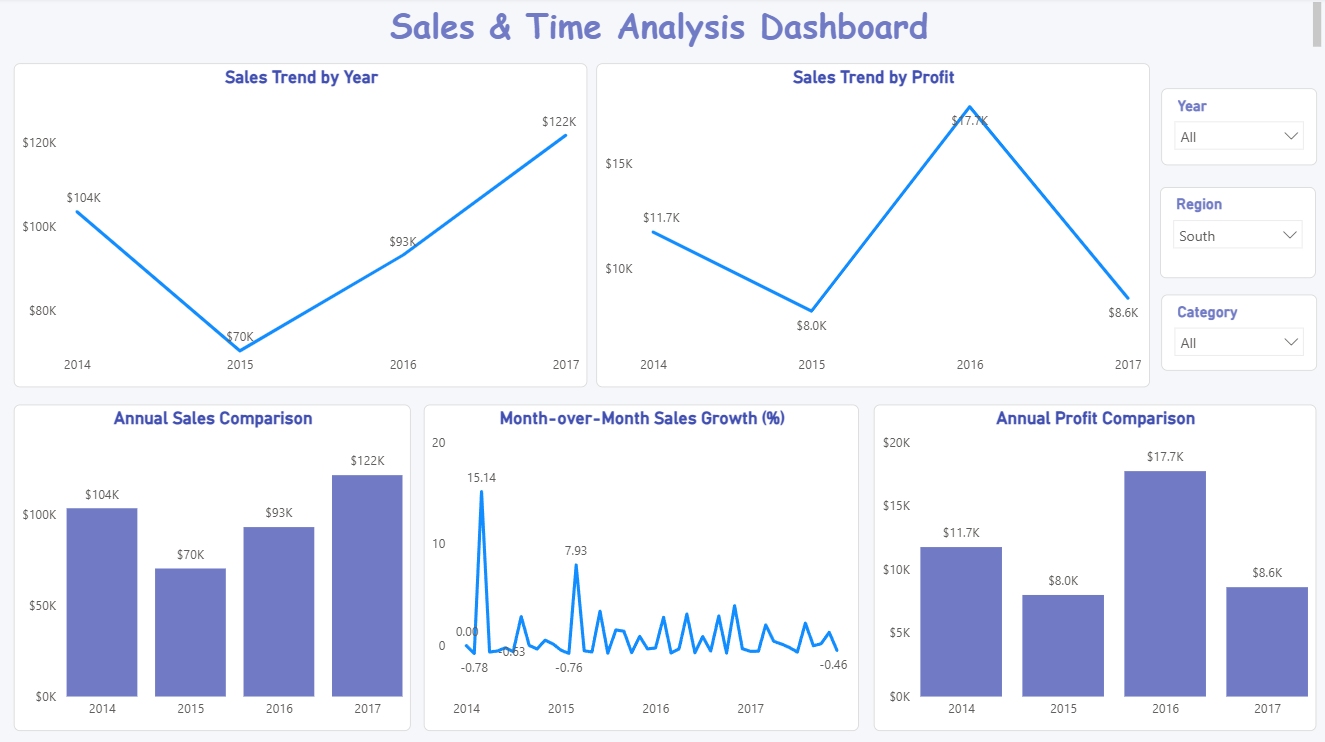

The page's visual inventory and layout, read from the dashboard file:
{"tool":"powerbi","page":{"name":"Sales & Time Analysis","canvas":[1280,720],"ordinal":1},"visuals":[{"type":"slicer","fields":{"Values":["Date Table.Year"]},"box":[1121,88.2,150.7,74.7],"z":0},{"type":"slicer","fields":{"Values":["order_clean.Category"]},"box":[1121,286.7,150.7,73.5],"z":1000},{"type":"slicer","fields":{"Values":["order_clean.Region"]},"box":[1119.8,183.8,150.7,88.2],"z":2000},{"type":"lineChart","title":"Sales Trend by Year","fields":{"Y":["Measures (2).Total Sales"],"Category":["Date Table.Year"]},"box":[13.5,63.7,553.8,312.4],"z":3000},{"type":"lineChart","title":"Sales Trend by Profit","fields":{"Category":["Date Table.Year"],"Y":["Measures (2).Total Profit"]},"box":[575.8,63.7,534.2,312.4],"z":4000},{"type":"textbox","box":[0,0,1280.2,53.9],"z":5000},{"type":"clusteredColumnChart","title":"Annual Sales Comparison","fields":{"Y":["Measures (2).Total Sales"],"Category":["Date Table.Year"]},"box":[13.5,393.3,383.5,314.9],"z":6000},{"type":"clusteredColumnChart","title":"Annual Profit Comparison","fields":{"Category":["Date Table.Year"],"Y":["Measures (2).Total Profit"]},"box":[843.3,393.3,427.1,314.9],"z":7000},{"type":"lineChart","title":"Month-over-Month Sales Growth (%)","fields":{"Y":["Measures (2).MoM Sales Growth %"],"Category":["Date Table.Date.Variation.Date Hierarchy.Year","Date Table.Date.Variation.Date Hierarchy.Month"]},"box":[409,393.3,419.8,314.9],"z":8000}]}

Visuals, with their boxes in screenshot pixels (x1, y1, x2, y2), scaled from the page's 1280x720 canvas onto the 1325x742 screenshot:
slicer - Date Table.Year: bbox(1160, 91, 1316, 168)
slicer - order_clean.Category: bbox(1160, 295, 1316, 371)
slicer - order_clean.Region: bbox(1159, 189, 1315, 280)
"Sales Trend by Year" lineChart: bbox(14, 66, 587, 388)
"Sales Trend by Profit" lineChart: bbox(596, 66, 1149, 388)
textbox: bbox(0, 0, 1324, 56)
"Annual Sales Comparison" clusteredColumnChart: bbox(14, 405, 411, 730)
"Annual Profit Comparison" clusteredColumnChart: bbox(873, 405, 1315, 730)
"Month-over-Month Sales Growth (%)" lineChart: bbox(423, 405, 858, 730)
